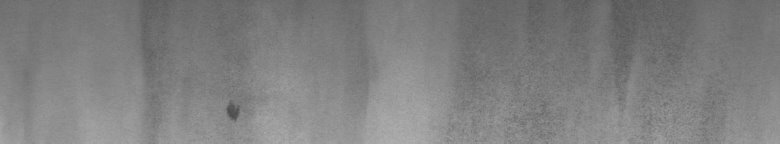fi: (220, 97, 244, 128)
